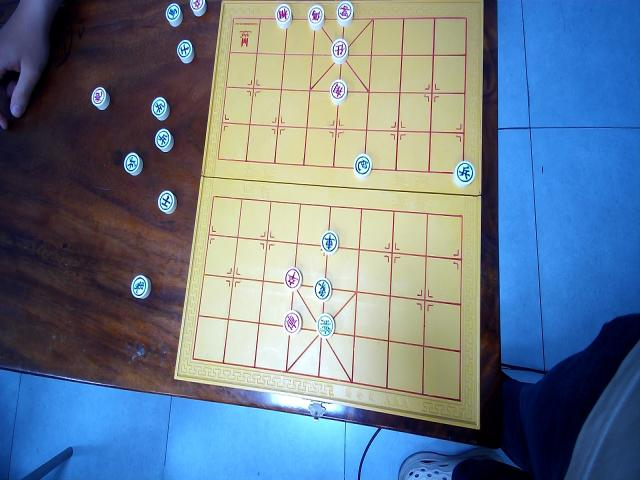piece: (453, 160, 475, 188), (131, 274, 151, 300), (283, 310, 303, 336), (90, 86, 110, 111), (157, 190, 177, 215), (123, 151, 143, 176), (353, 153, 372, 179), (316, 312, 335, 338), (154, 127, 173, 152), (329, 78, 347, 104), (151, 95, 169, 121), (274, 3, 292, 29), (336, 0, 354, 26), (331, 37, 348, 64), (165, 2, 183, 27), (284, 266, 302, 291), (320, 230, 338, 255), (176, 39, 194, 63), (313, 278, 331, 302), (308, 4, 324, 30), (189, 0, 206, 17)
